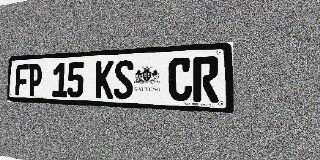1: (52, 62, 68, 97)
5: (67, 62, 84, 98)
C: (168, 57, 192, 102)
F: (15, 64, 29, 96)
K: (95, 60, 114, 99)
P: (28, 64, 42, 96)
R: (193, 56, 219, 102)
S: (114, 60, 134, 100)
